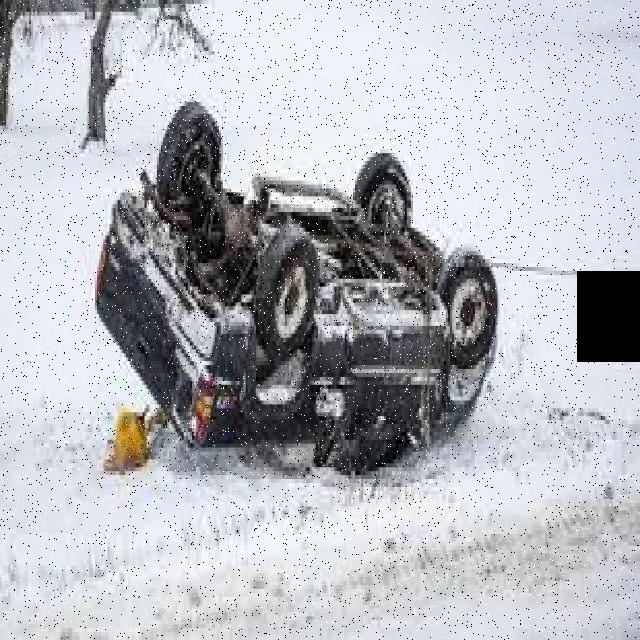single accident: (76, 153, 543, 421)
